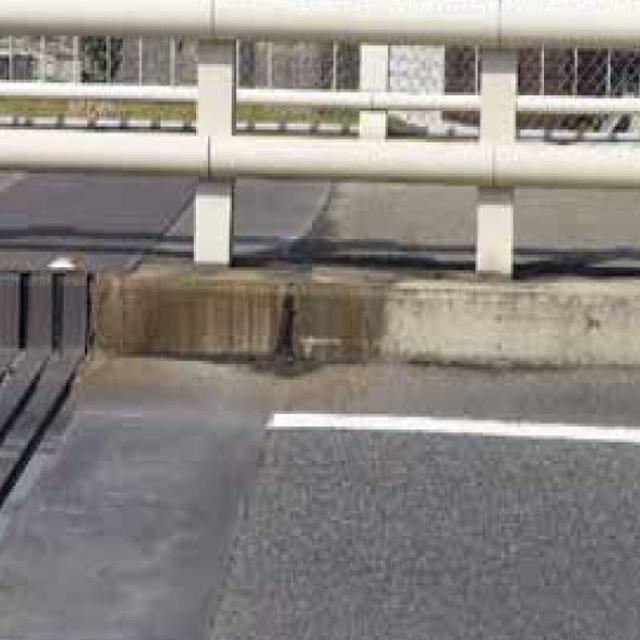leakage: (103, 247, 403, 373)
